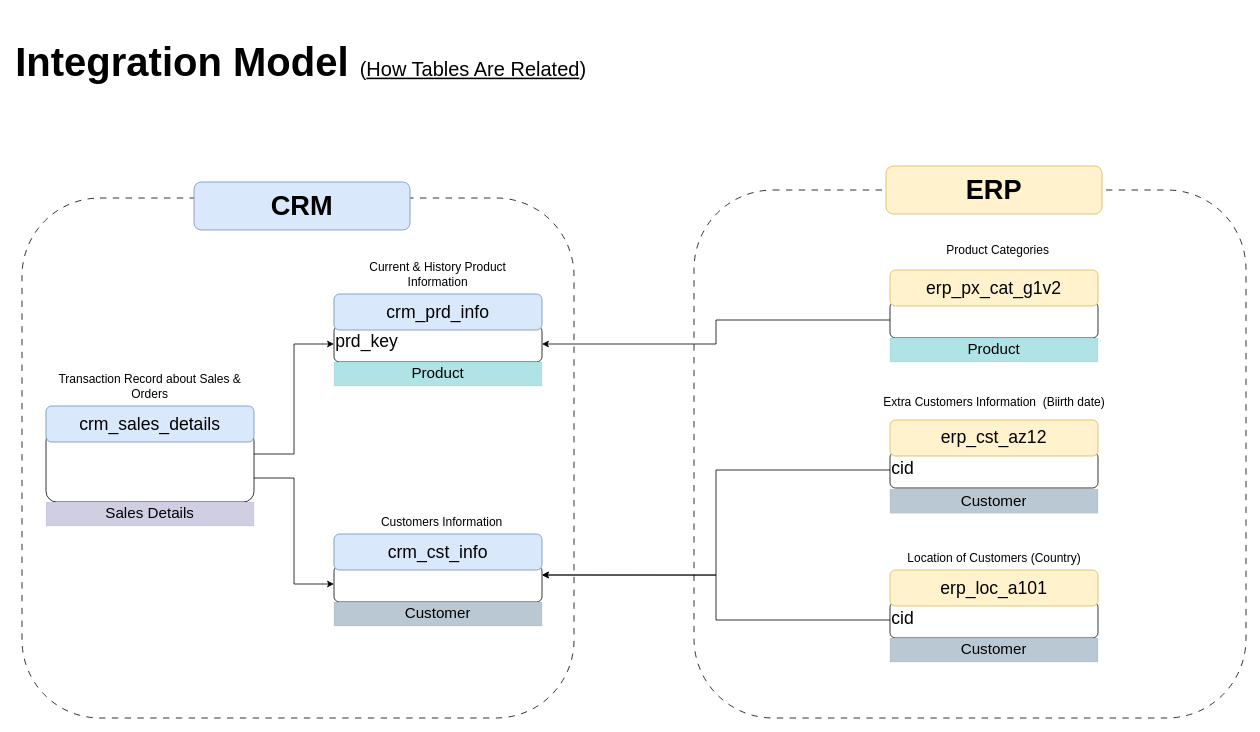
Some shapes in this 1260 by 732 pixel diagram are drawn without their labels. The centre of each missing label's shape, as x and y in pixels:
"cst_id" belongs at [437,583].
"id" belongs at [993,319].
"prd_key cst_id" belongs at [149,465].
